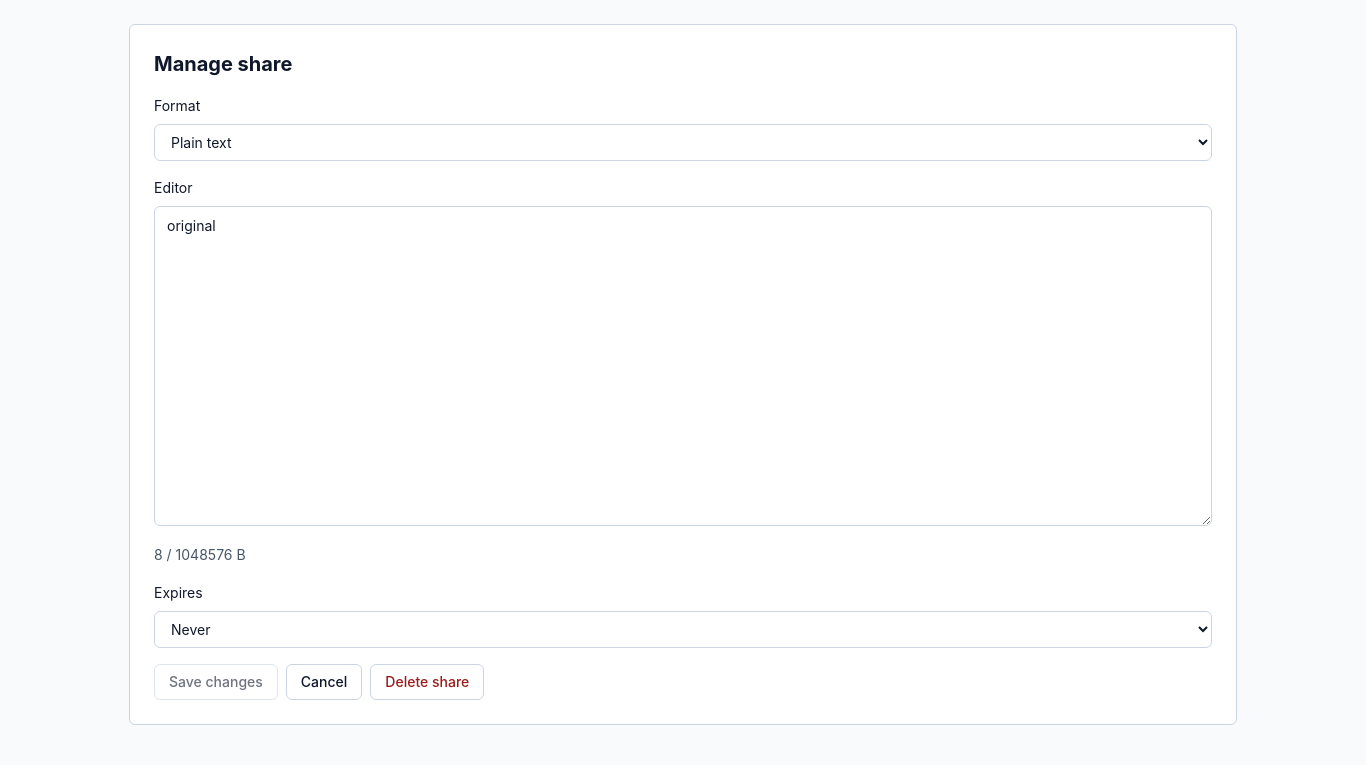
it: ManageRoute state regressions › keeps invalid custom expiration selected and blocks mutation
This screenshot has width=1366, height=765.
Select "Custom…" in the dropdown named "Expiration" at (683, 630), box [154,611,1212,648]
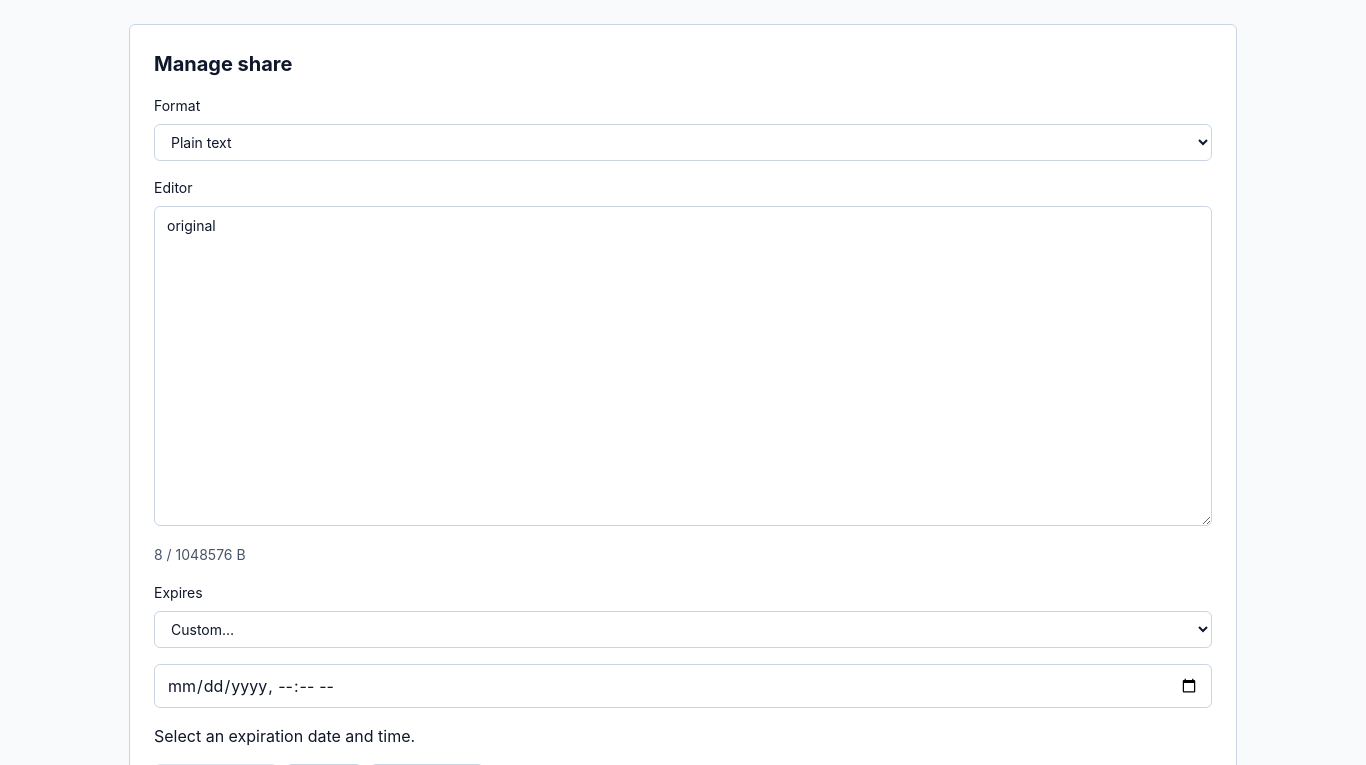
expect the text "Select an expiration date and time." is shown: met, box [154,726,415,746]
Type "2000-01-01T00:00" into the field named "Custom expiration date and time" at (683, 686), box [154,664,1212,708]
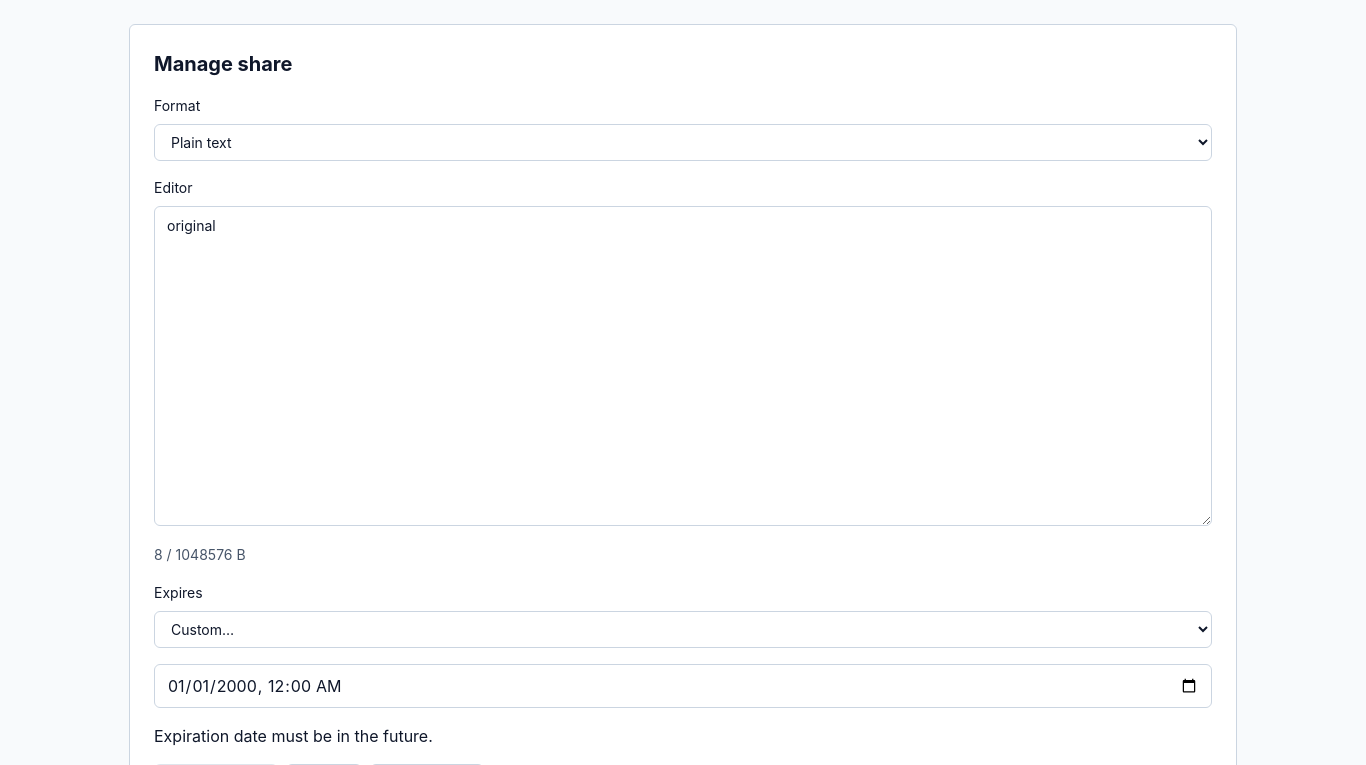
expect the text "Expiration date must be in the future." is shown: met, box [154,726,433,746]
